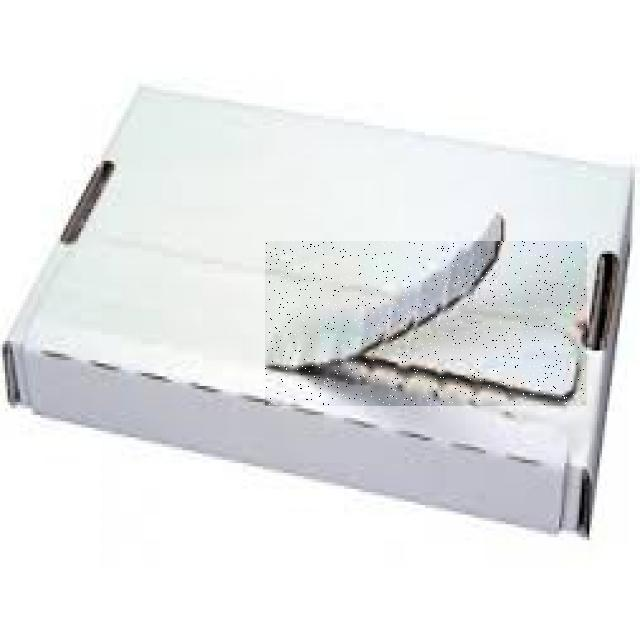tear: (266, 241, 585, 405)
